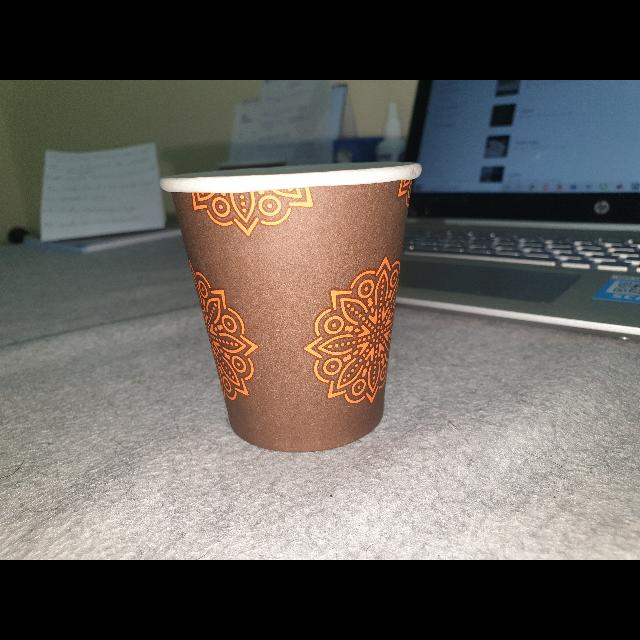trash: (153, 148, 431, 456)
